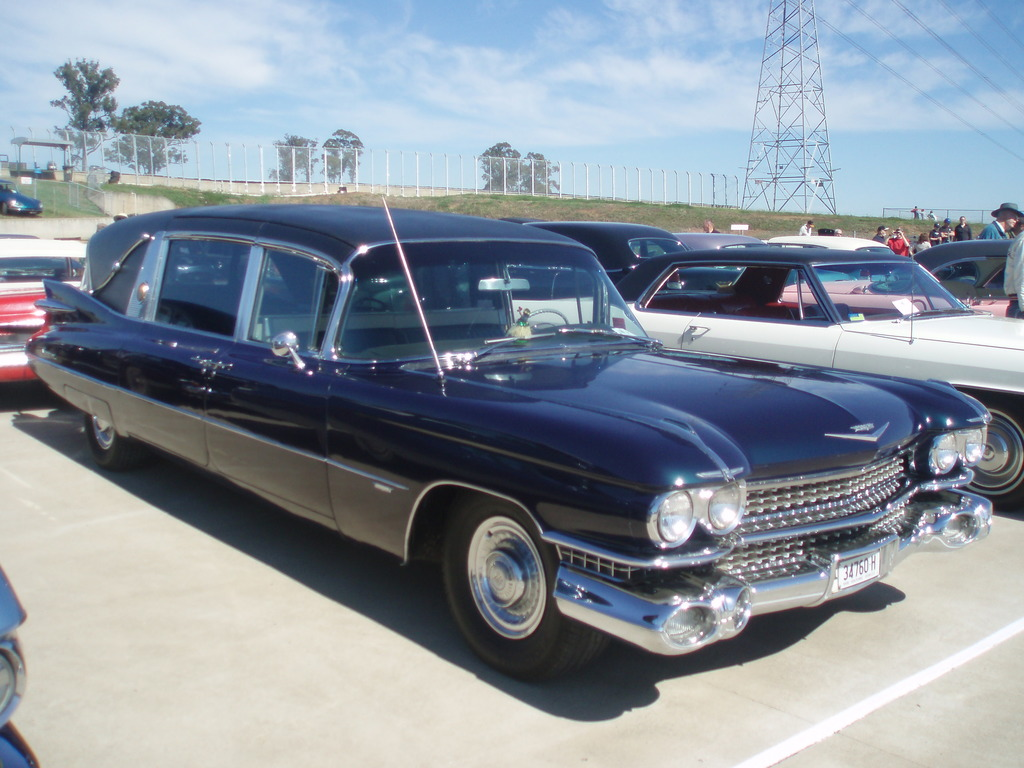Car: (0, 190, 1023, 685), (0, 186, 44, 220)
